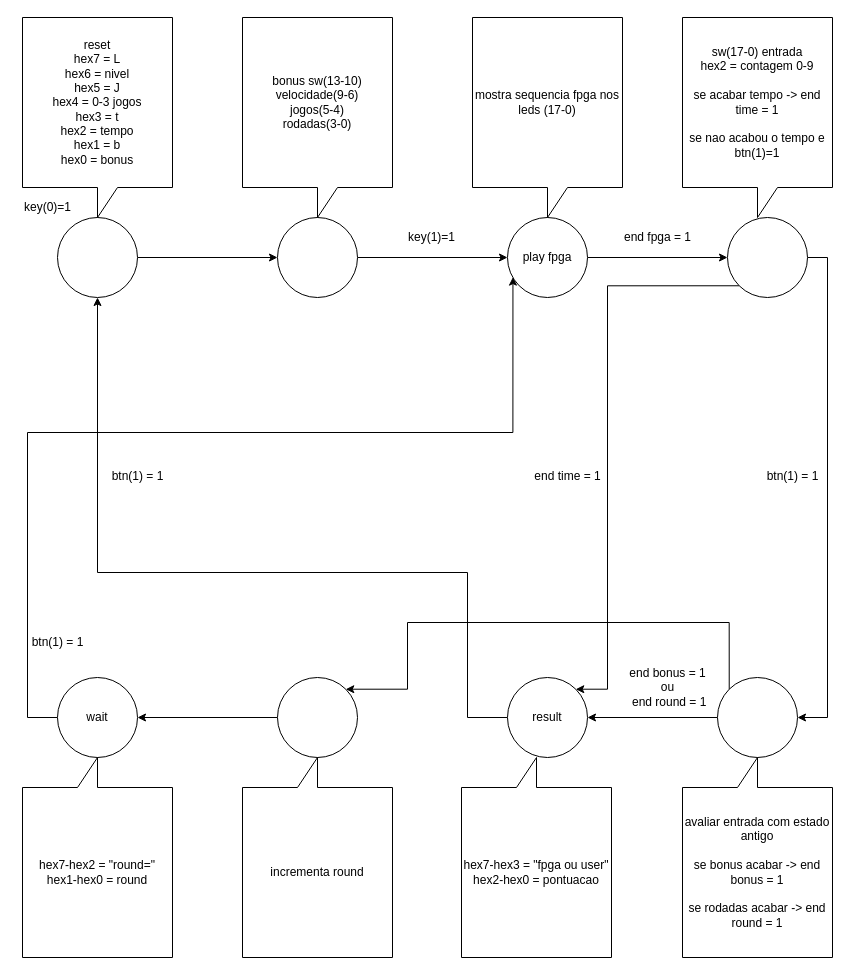
Some shapes in this 853 by 975 pixel diagram are drawn without their labels. Each missing label, with the centre of its shape:
"check" goes at [757,717].
"next round" goes at [317,717].
"play user" goes at [767,257].
"setup" goes at [317,257].
"start" goes at [97,257].
